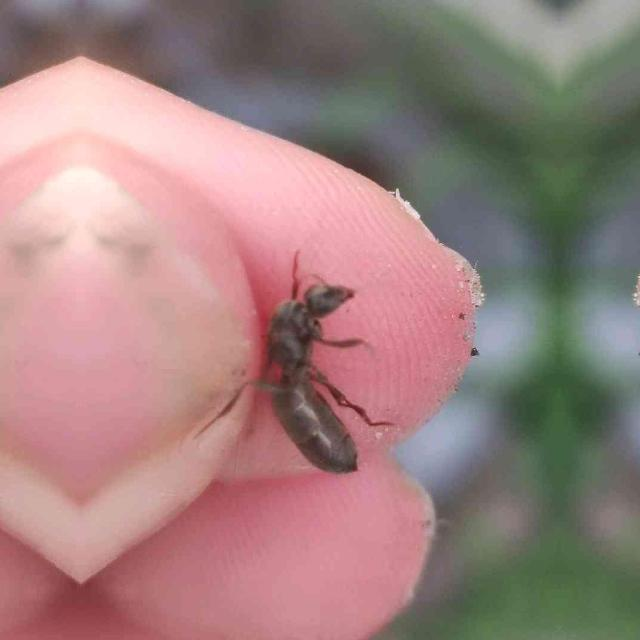Lasius: (238, 263, 388, 479)
